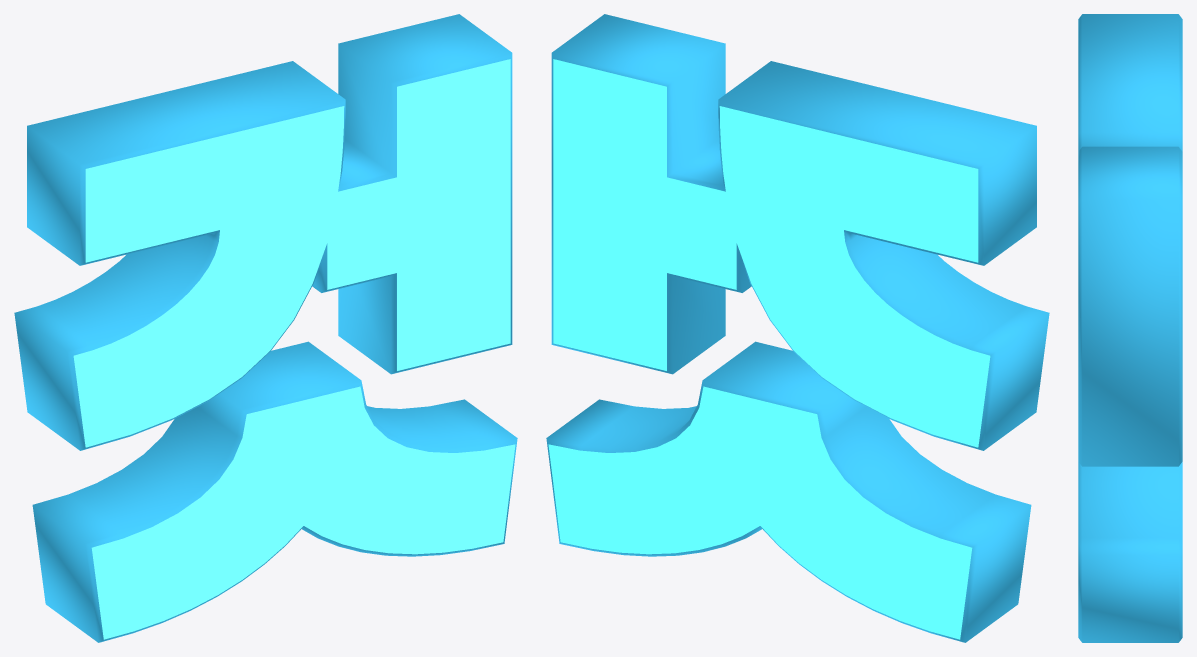
3 renders of one model, left to right at view 1: azimuth 30°, elevation 25°; view 2: azimuth 150°, elevation 25°; view 3: azimuth 270°, elevation 25°, orthographic. The views are drawn at different scales.
Parts seen in each view (by area): view 1: glyph; view 2: glyph; view 3: glyph.
Boxes of the visible parts, x1,y1,x2,y2 form: glyph: (14,14,517,642); glyph: (546,14,1049,642); glyph: (1078,14,1182,642).
Size of the model in its own units: 0.0738 by 0.0766 by 0.0162.
